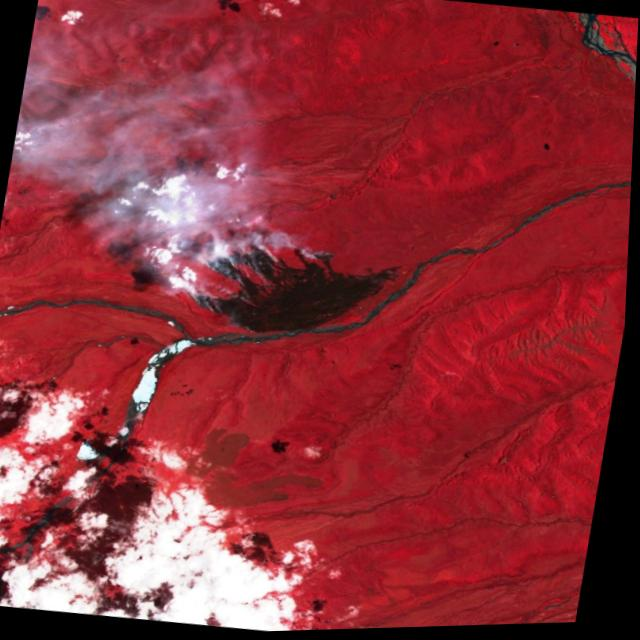fire: (135, 206, 358, 349)
